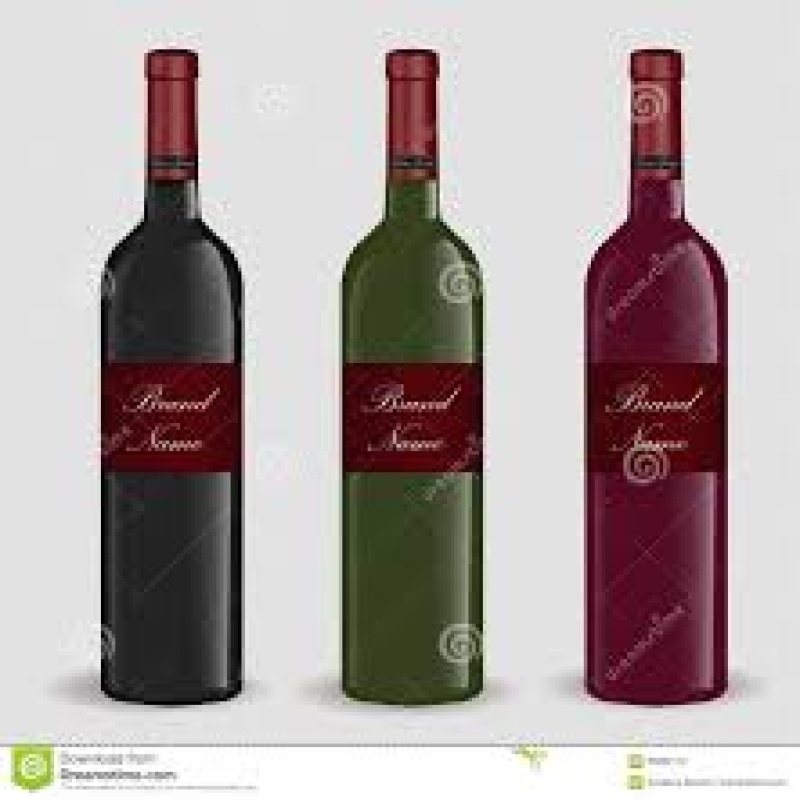wine: (100, 43, 252, 702), (337, 54, 484, 697), (587, 50, 725, 702)
